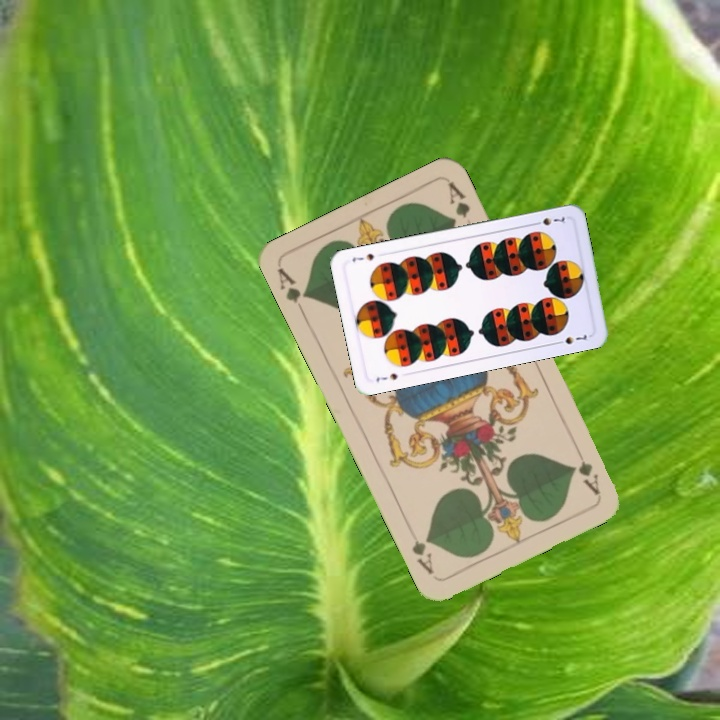GA: (272, 263, 312, 319), (572, 441, 603, 498)
S7: (529, 213, 568, 228), (372, 369, 400, 384)
